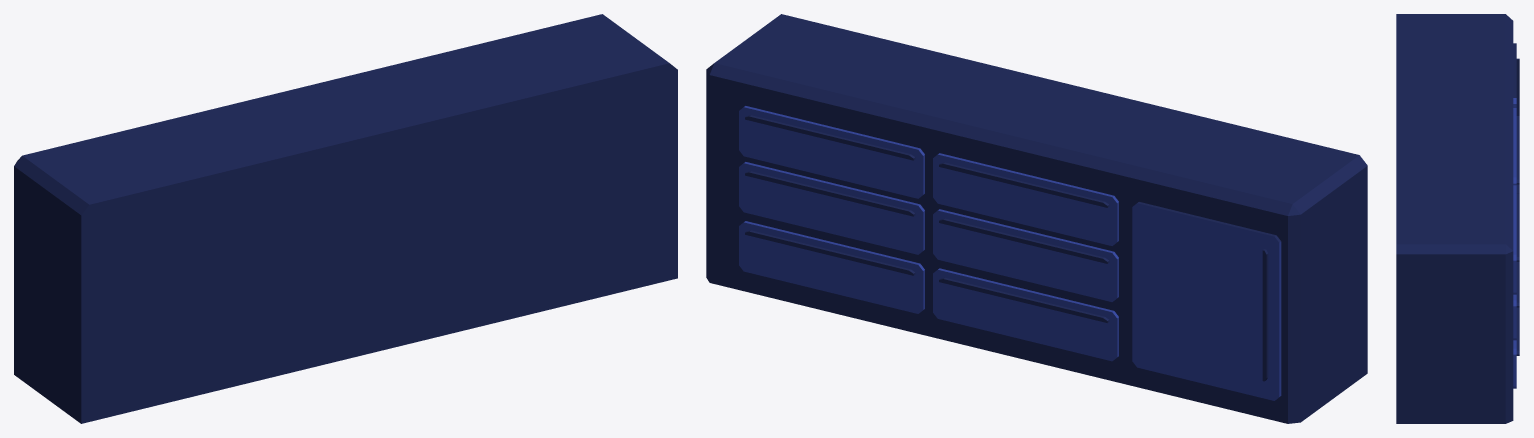
The model's file is Drawer.fbx.
3 renders of one model, left to right at view 1: azimuth 30°, elevation 25°; view 2: azimuth 150°, elevation 25°; view 3: azimuth 270°, elevation 25°, orthographic. The views are drawn at different scales.
Parts seen in each view (by area): view 1: Drawer; view 2: Drawer; view 3: Drawer.
Part boxes in pixels (<box>): Drawer: <box>14,14,677,423</box>; Drawer: <box>706,14,1367,423</box>; Drawer: <box>1396,14,1519,423</box>.
Bounding box in the file's own units: 269 × 93.68 × 59.2.
